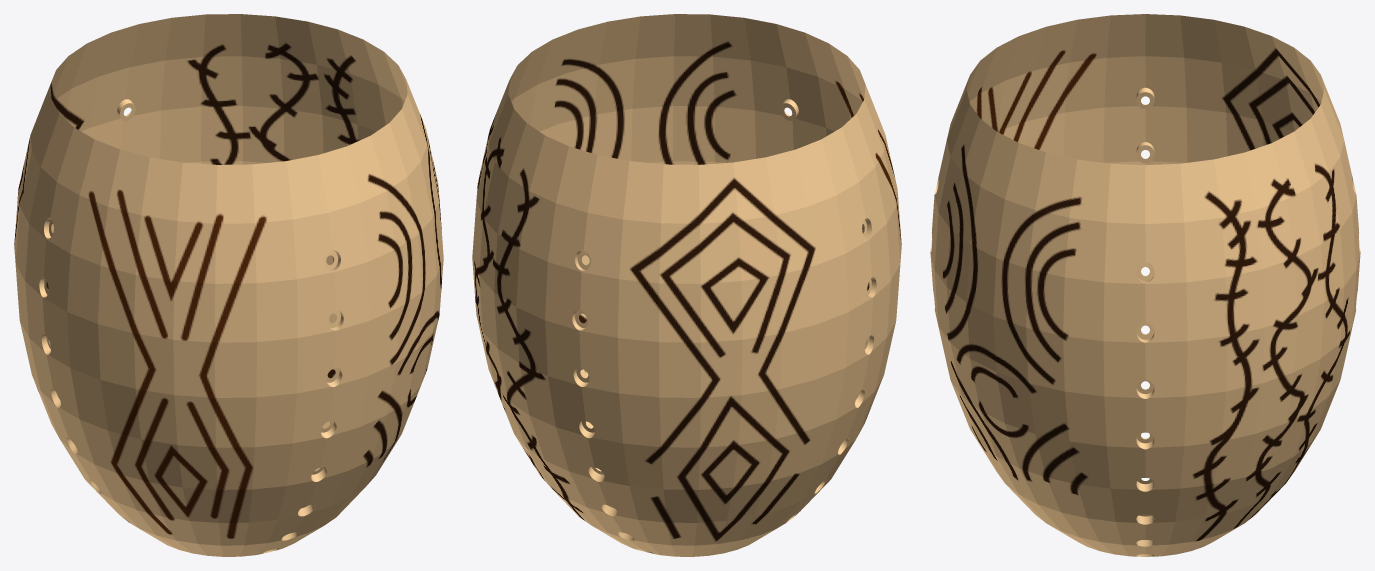
File: tsatsa.glb
The picture shows the model from 3 angles, left to right: view 1: azimuth 30°, elevation 25°; view 2: azimuth 150°, elevation 25°; view 3: azimuth 270°, elevation 25°; orthographic projection.
Parts seen in each view (by area): view 1: Sphere; view 2: Sphere; view 3: Sphere.
Boxes of the visible parts, x1=… form: Sphere: x1=14, y1=14, x2=443, y2=556; Sphere: x1=472, y1=14, x2=901, y2=556; Sphere: x1=930, y1=14, x2=1360, y2=556.
Bounding box in the file's own units: 2 × 2.33 × 2.
1 material, 1 textured.
